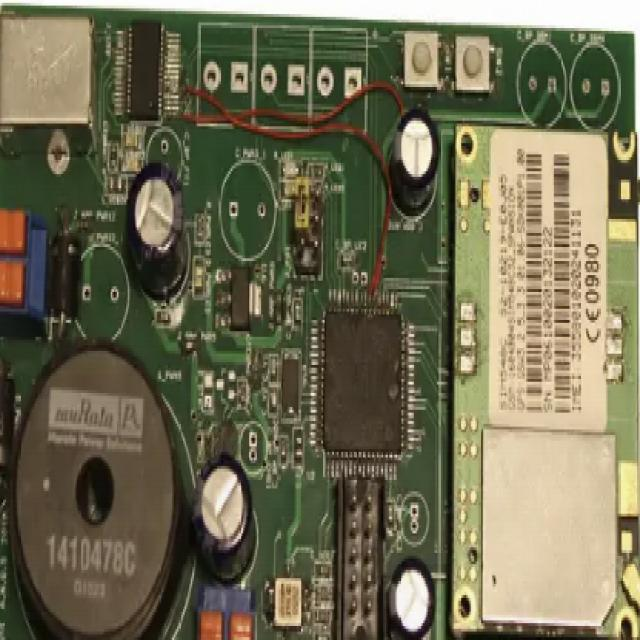Electrolytic capacitor: (124, 158, 189, 302), (197, 454, 255, 578), (391, 109, 440, 221), (390, 561, 438, 640)
